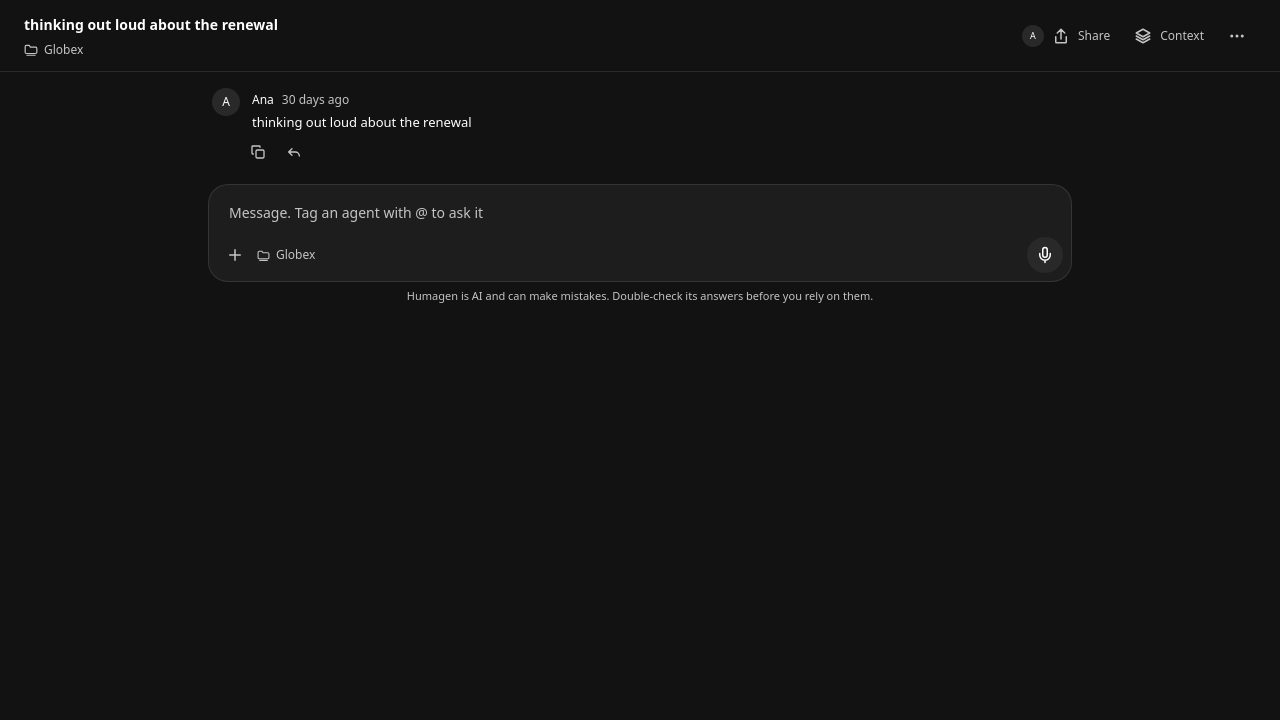
Test: Share says who the platform did not add, and why, beside who was told
The image size is (1280, 720).
Click the button "A Share" at (1066, 36), box [1012,18,1120,54]
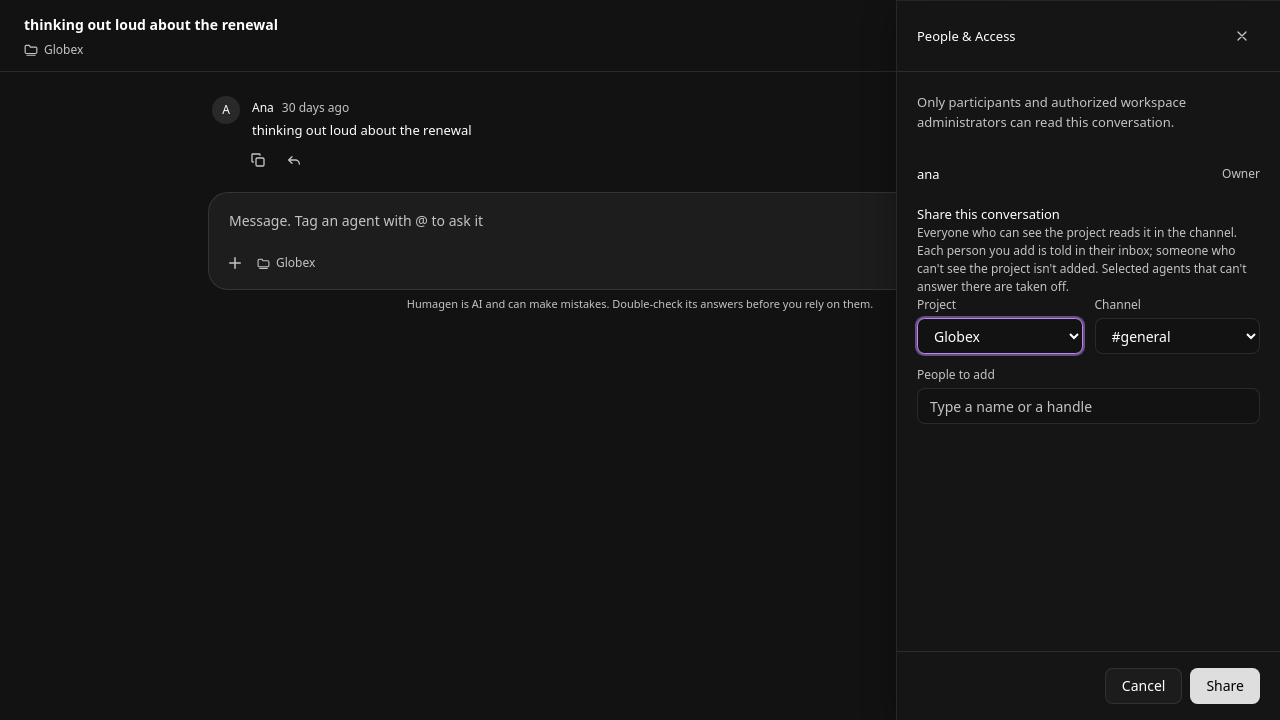
Now the text "Everyone who can see the project reads it in the channel. Each person you add is told in their inbox; someone who can't " is shown, box [917,224,1246,295]
Type "dana" into the dropdown named "People to add" at (1088, 406), box [917,388,1260,424]
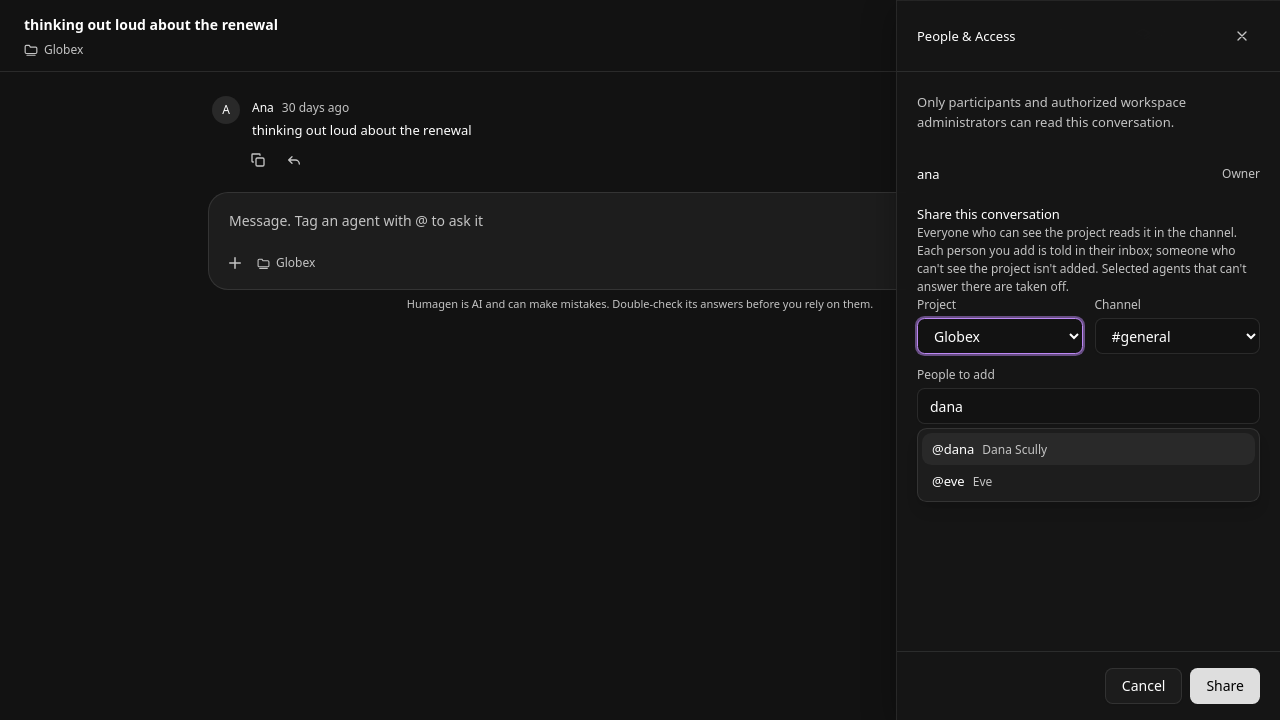
Press Enter in the dropdown named "People to add", box [917,388,1260,424]
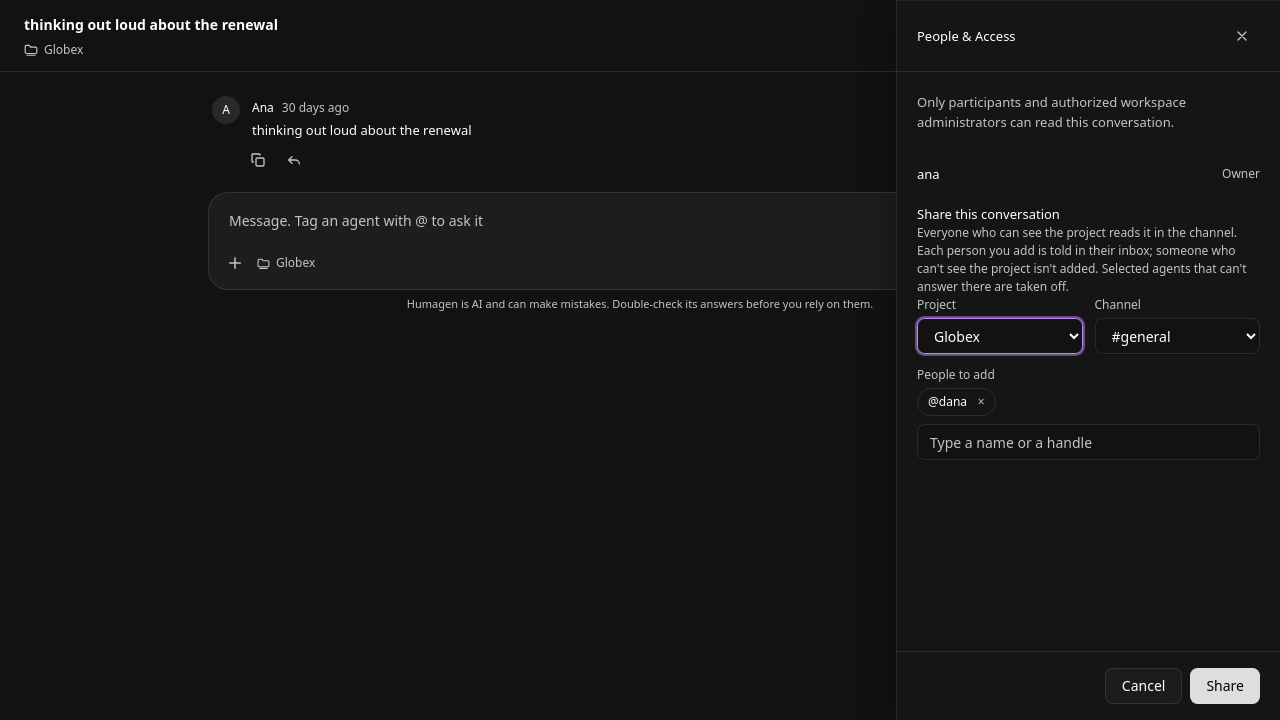
Type "eve" into the dropdown named "People to add" at (1088, 442), box [917,424,1260,460]
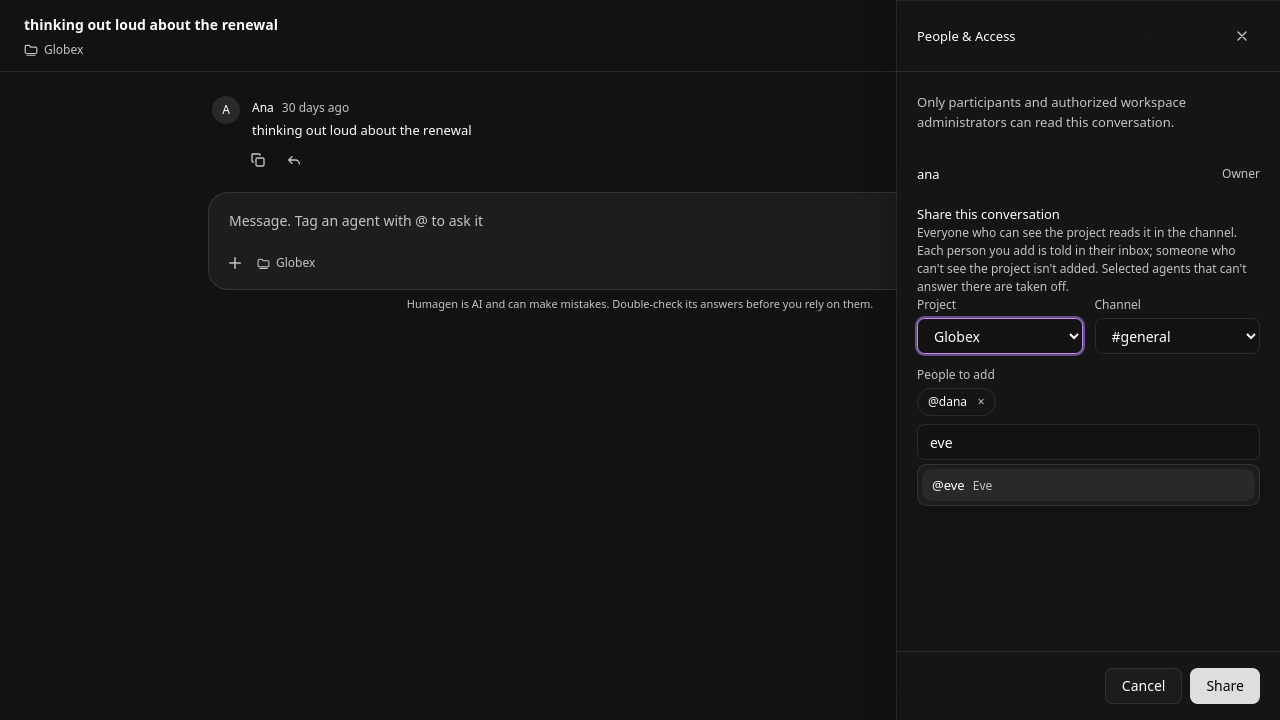
Press Enter in the dropdown named "People to add", box [917,424,1260,460]
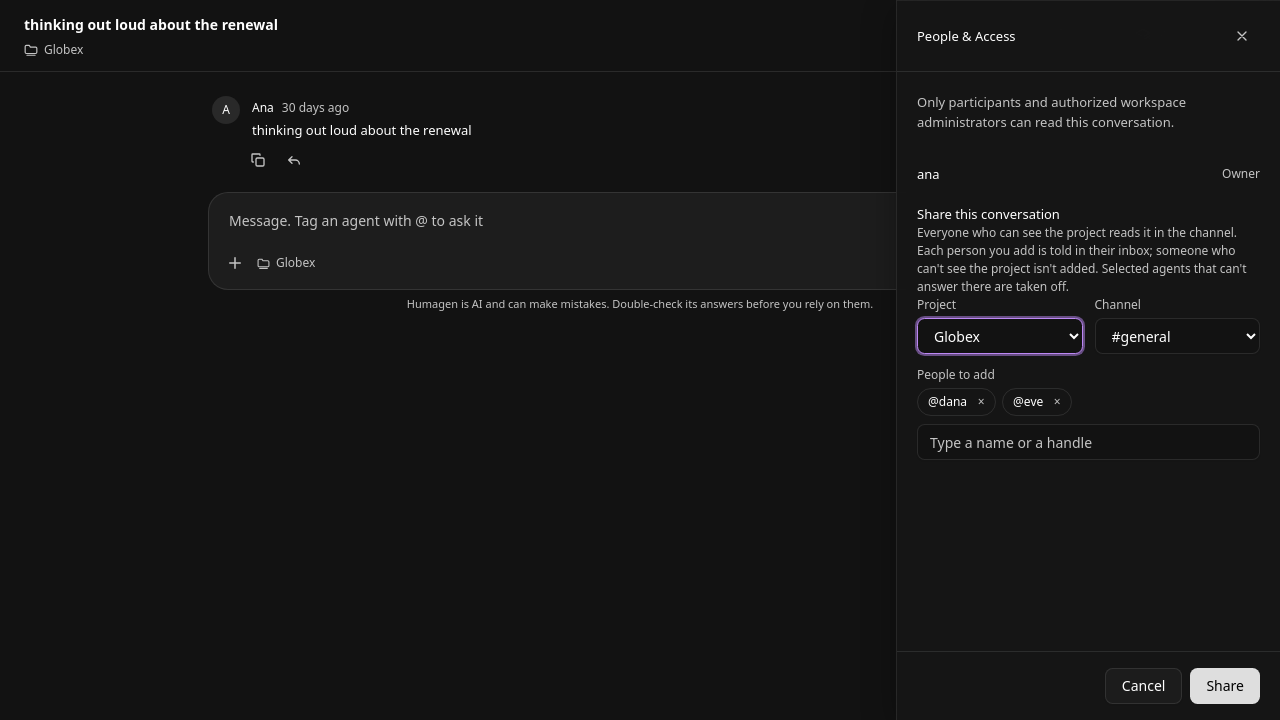
Click the button "Share" at (1225, 686), box [1190,668,1260,704]
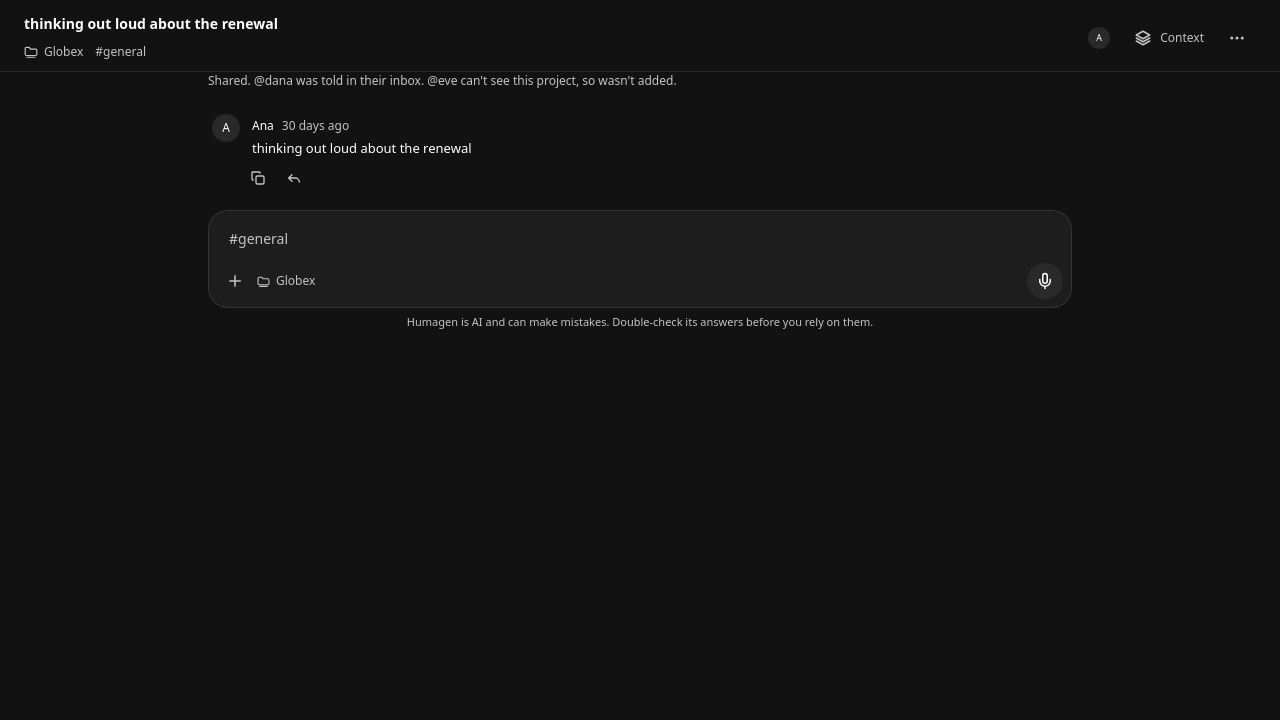
Now the text "Shared. @dana was told in their inbox. @eve can't see this project, so wasn't added." is shown, box [208,72,677,89]
